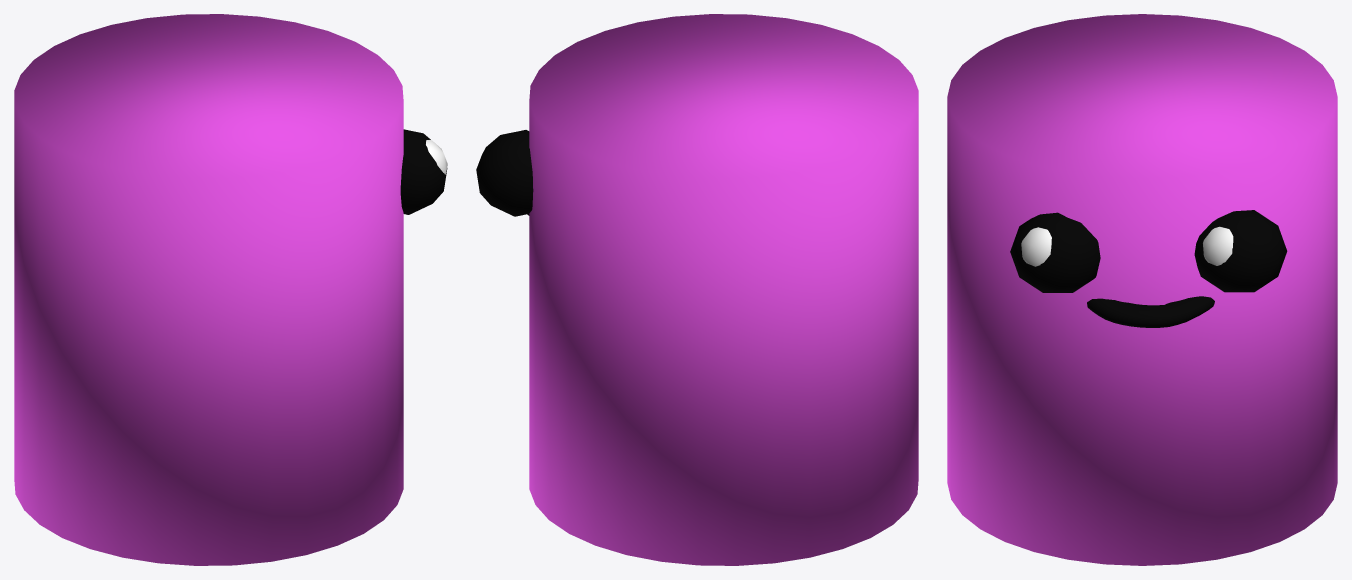
File: BasicMarsh.fbx
3 renders of one model, left to right at view 1: azimuth 30°, elevation 25°; view 2: azimuth 150°, elevation 25°; view 3: azimuth 270°, elevation 25°, orthographic.
Parts seen in each view (by area): view 1: Cylinder, Icosphere.004; view 2: Cylinder, Icosphere.001; view 3: Cylinder, Icosphere.001, Icosphere.004, Torus, Icosphere.005, Icosphere.002.
Part boxes in pixels (x1=…): Cylinder: x1=14, y1=14, x2=403, y2=565; Icosphere.004: x1=400, y1=129, x2=447, y2=214; Cylinder: x1=529, y1=14, x2=918, y2=565; Icosphere.001: x1=476, y1=130, x2=533, y2=216; Cylinder: x1=947, y1=14, x2=1337, y2=565; Icosphere.001: x1=1194, y1=210, x2=1287, y2=292; Icosphere.004: x1=1010, y1=212, x2=1100, y2=292; Torus: x1=1087, y1=296, x2=1214, y2=327; Icosphere.005: x1=1021, y1=227, x2=1051, y2=266; Icosphere.002: x1=1203, y1=226, x2=1233, y2=265.
Bounding box in the file's own units: 213 × 219 × 200.
